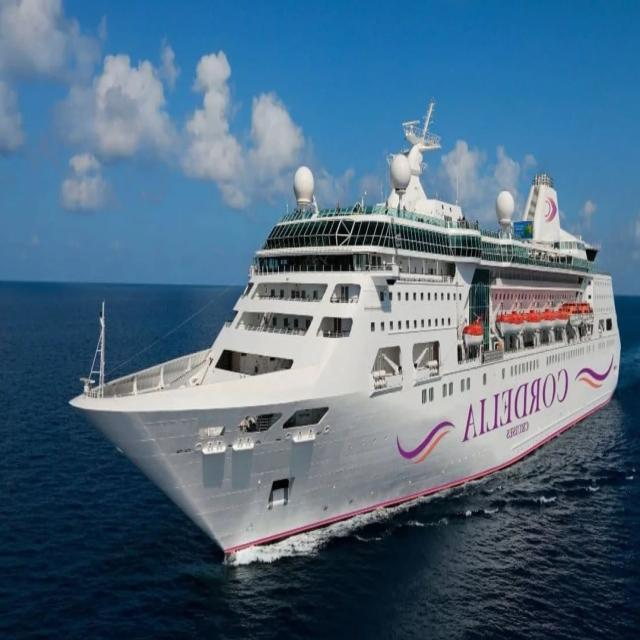passenger ship: (78, 112, 631, 542)
